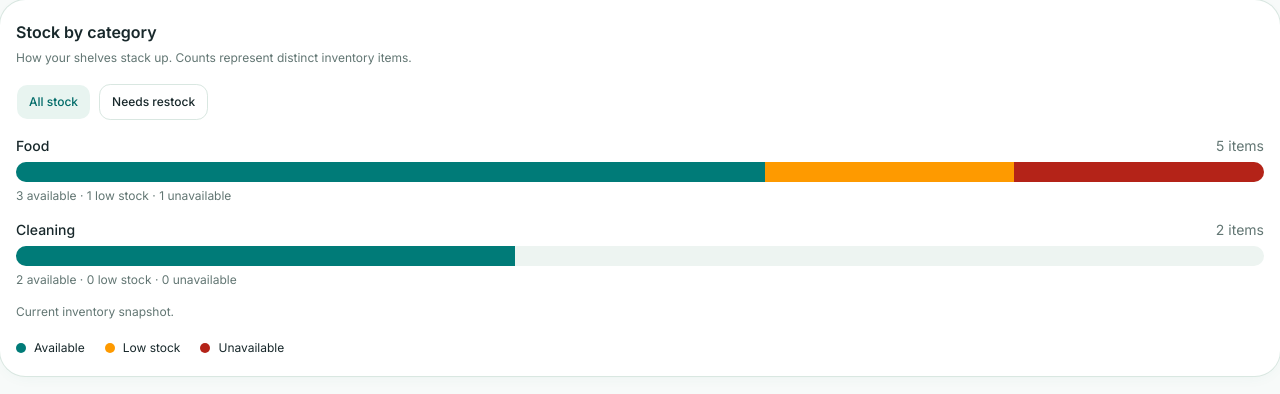
Test case: filters the graph to categories needing restock and exposes counts without relying on color
Expected: the text "3 available · 1 low stock · 1 unavailable" is shown, x1=16 y1=188 x2=231 y2=202
Expected: the text "5 items" is shown, x1=1216 y1=136 x2=1264 y2=156
Step 1. Click the button "Needs restock" → x=154, y=102, box x1=99 y1=84 x2=208 y2=120
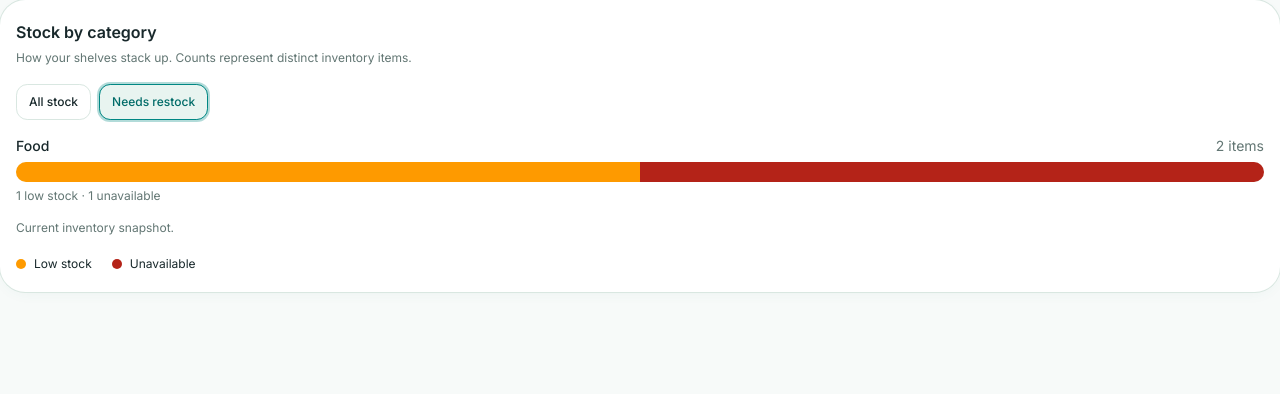
Expected: the text "1 low stock · 1 unavailable" is shown, x1=16 y1=188 x2=161 y2=202
Expected: the text "Cleaning" is gone
Expected: the text "2 items" is shown, x1=1216 y1=136 x2=1264 y2=156
Step 2. Click the button "All stock" → x=54, y=102, box x1=16 y1=84 x2=91 y2=120
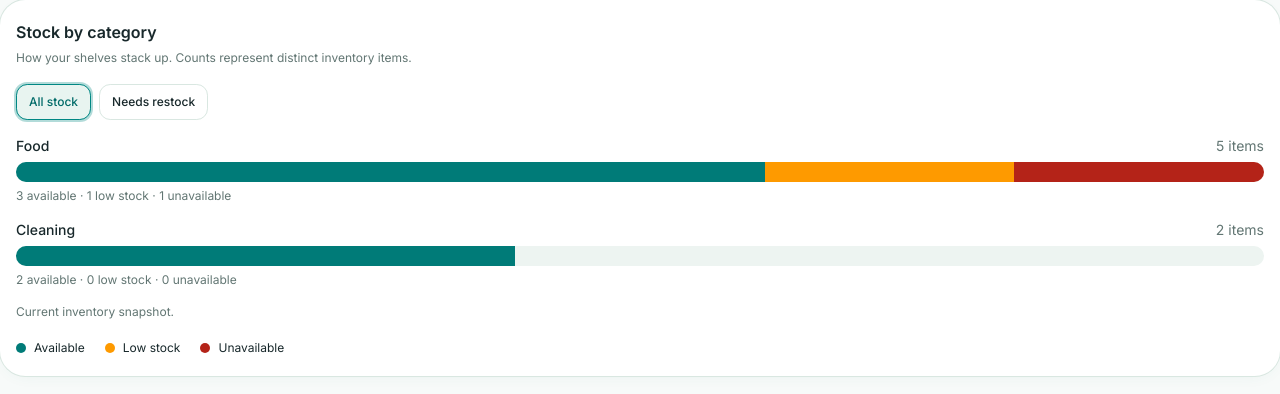
Expected: the text "Cleaning" is shown, x1=16 y1=220 x2=75 y2=240
